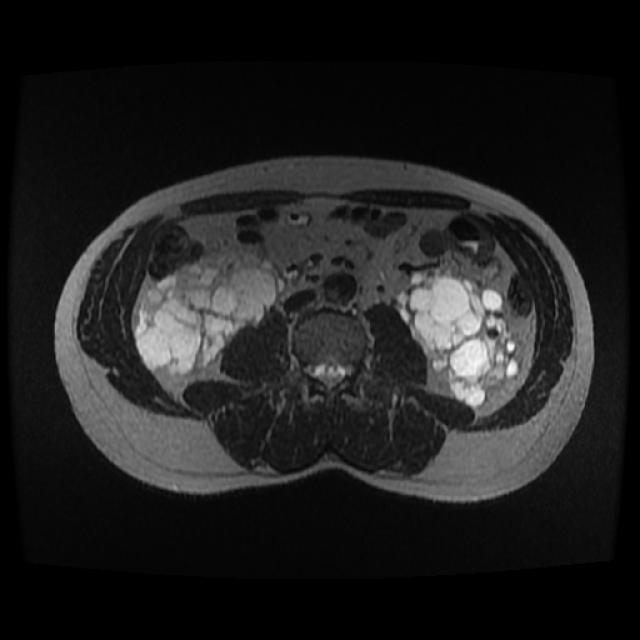sag: (129, 249, 288, 381)
sol: (395, 268, 527, 409)
